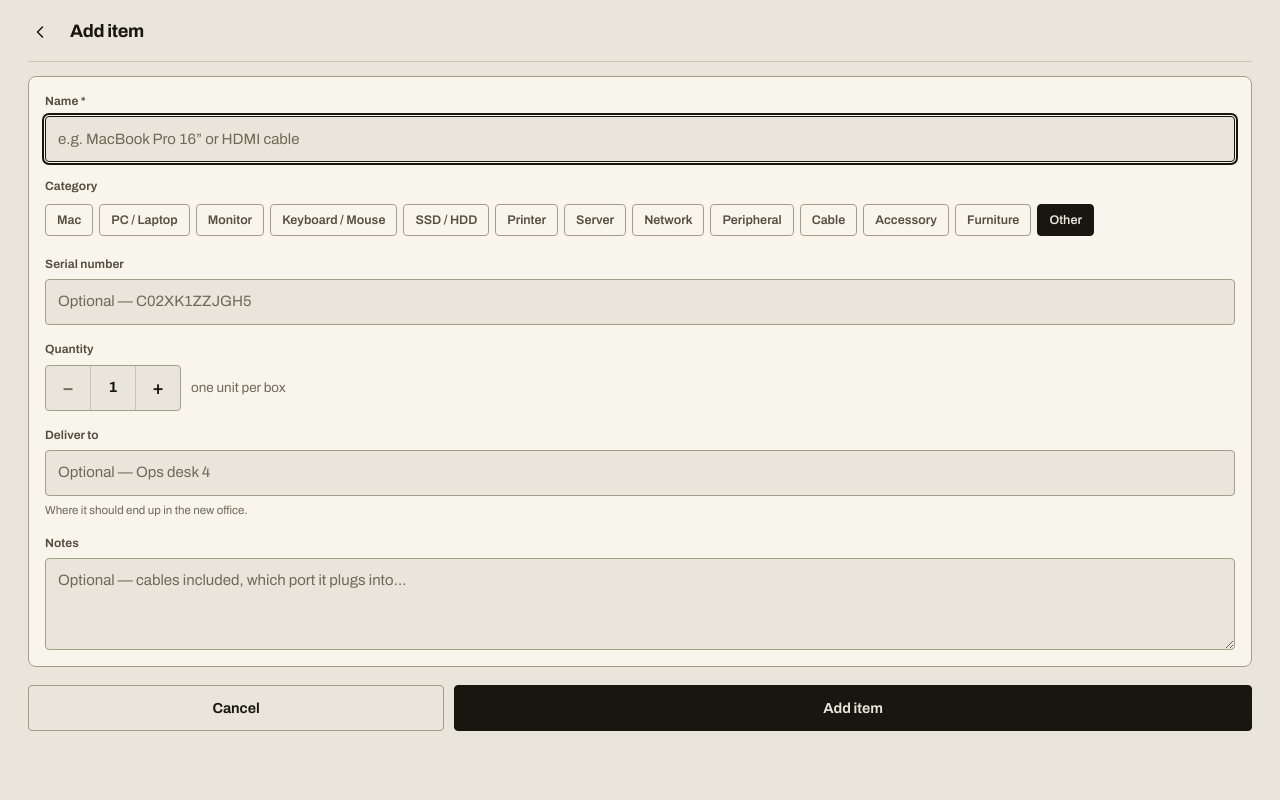
ItemForm › submits with defaults and navigates to the created item
This screenshot has width=1280, height=800.
Type "Dell dock" into the field with placeholder "e.g. MacBook Pro 16” or HDMI cable".
click(640, 139); type("Dell dock")  # box [45, 116, 1235, 162]
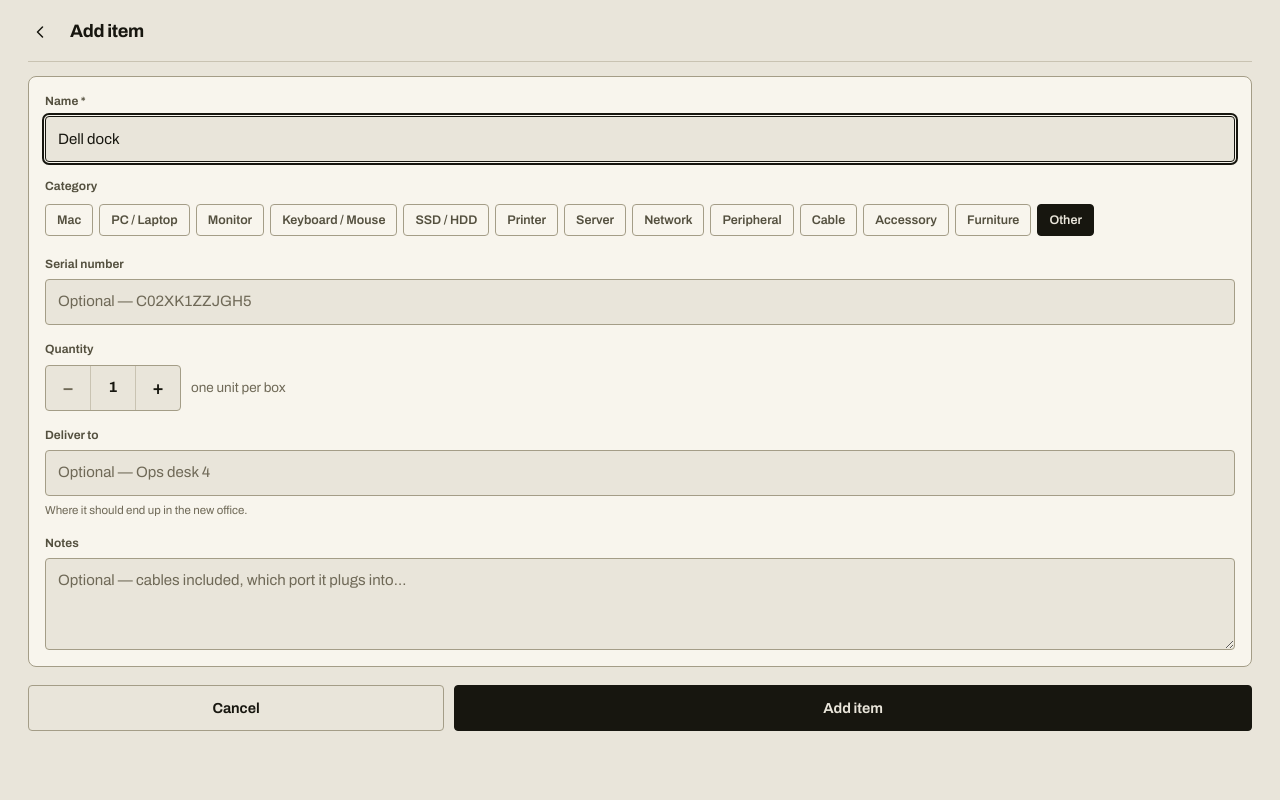
Click the button "Add item".
click(853, 708)  # box [454, 685, 1252, 731]
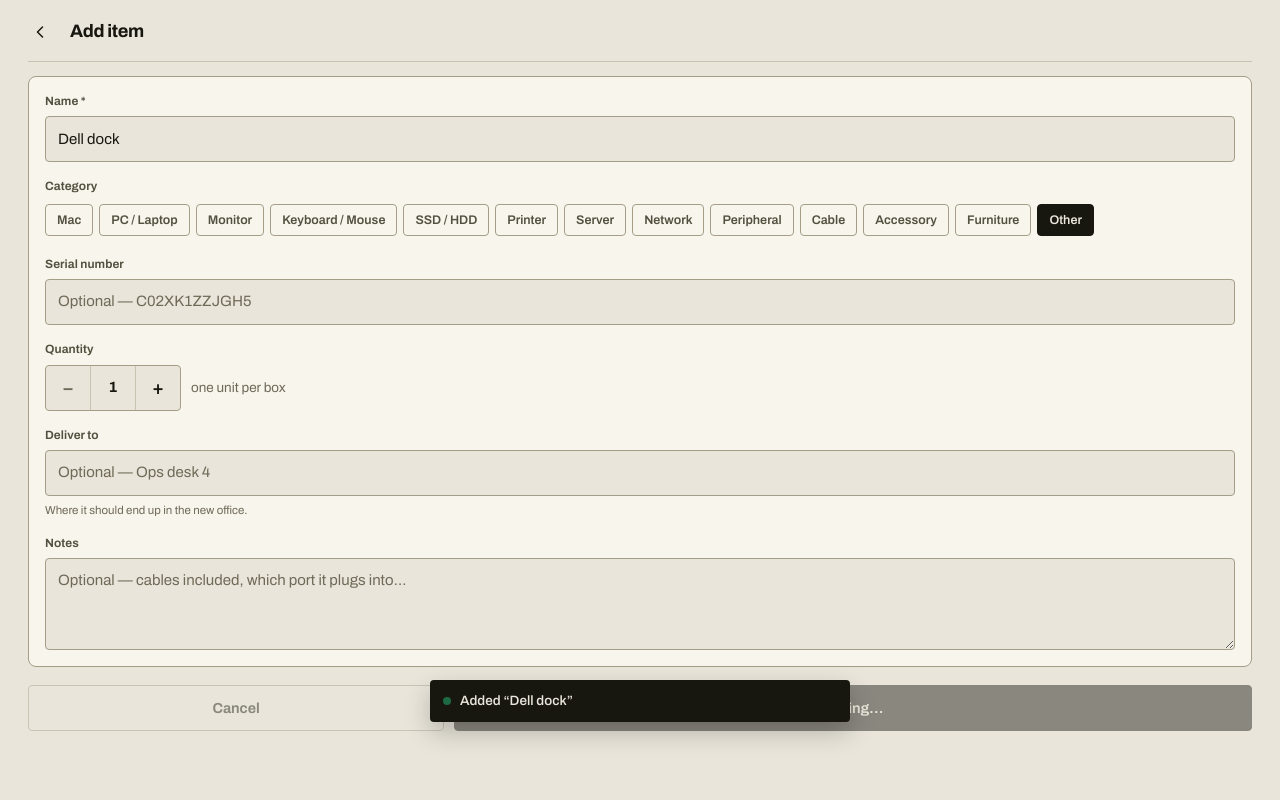
Expected: the text "Added “Dell dock”" is shown, [430, 680, 850, 722]
